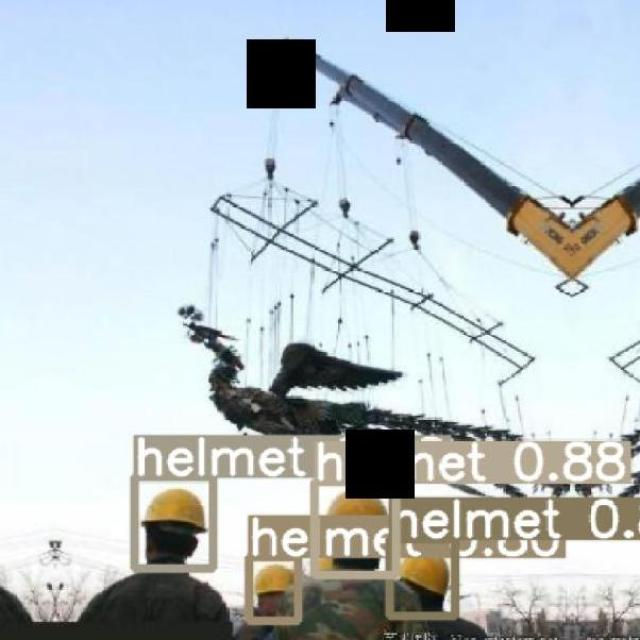yellow helmet: (323, 489, 391, 553), (139, 486, 210, 540), (398, 558, 456, 597), (253, 560, 300, 600)
